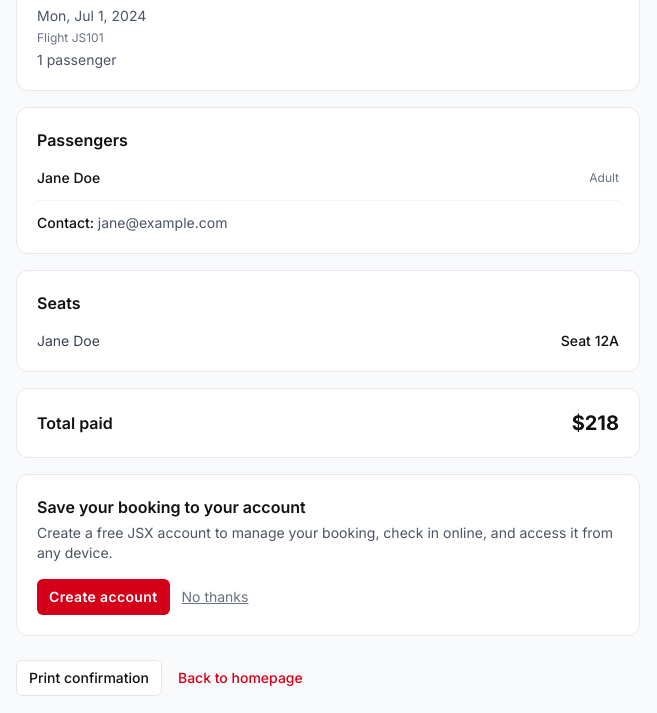
Test: BookingConfirmationPage — account prompt (guest) › dismissing account prompt hides it
(page scrolled)
Expected: the element with test id "account-prompt" is shown, [16,474,640,636]
Click the button with test id "dismiss-account-prompt".
click(215, 597)  # box [182,579,248,615]
(page scrolled)
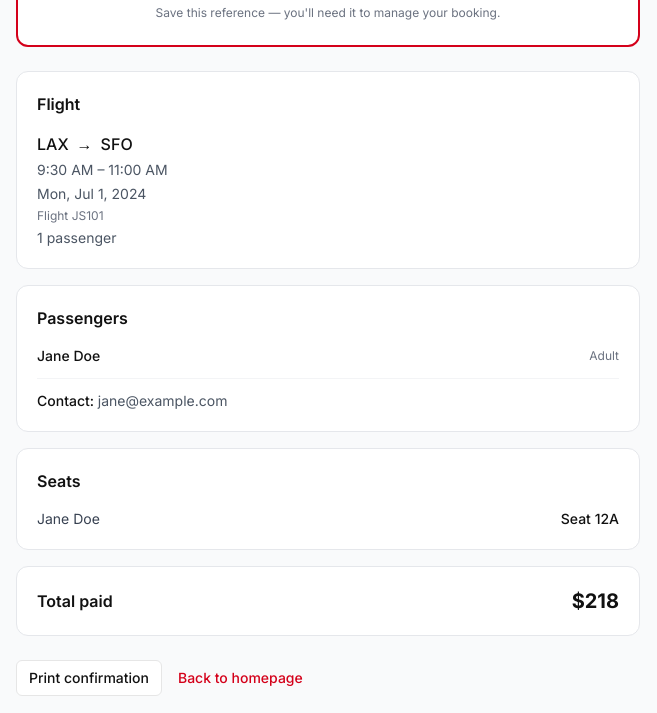
Expected: the element with test id "account-prompt" is gone
